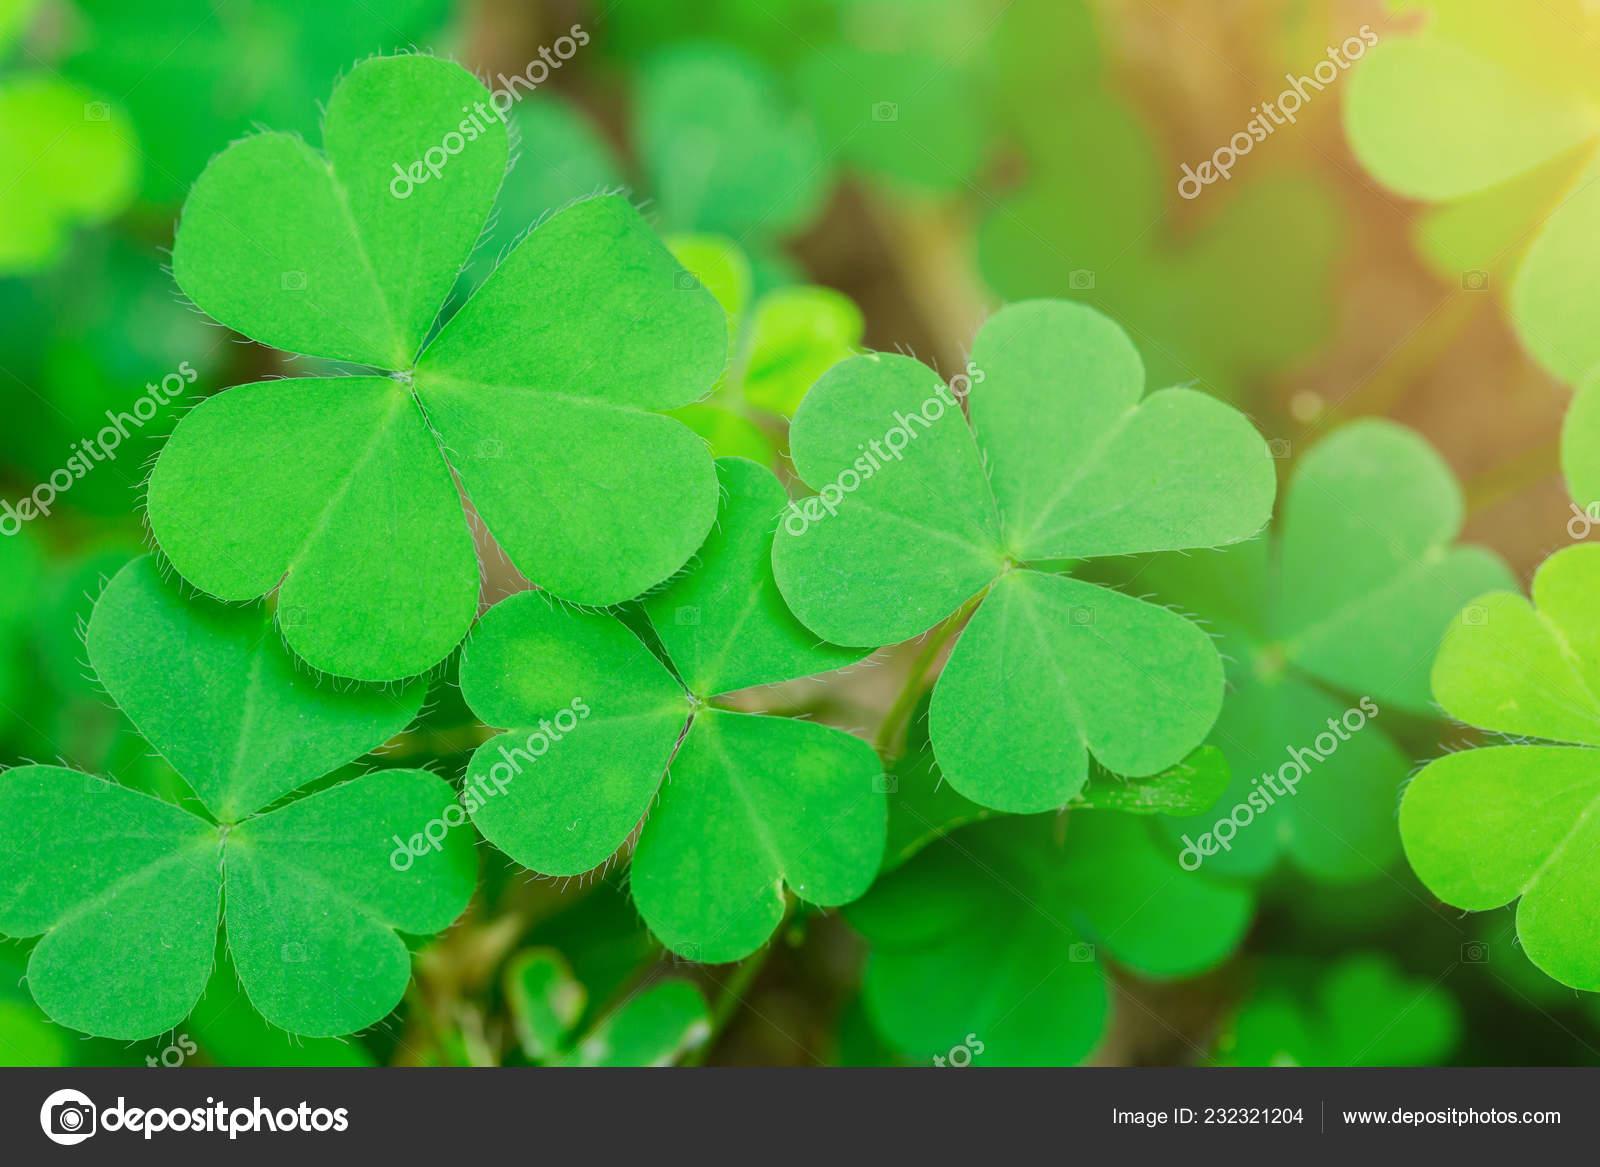oxalis: (32, 81, 1600, 1074)
